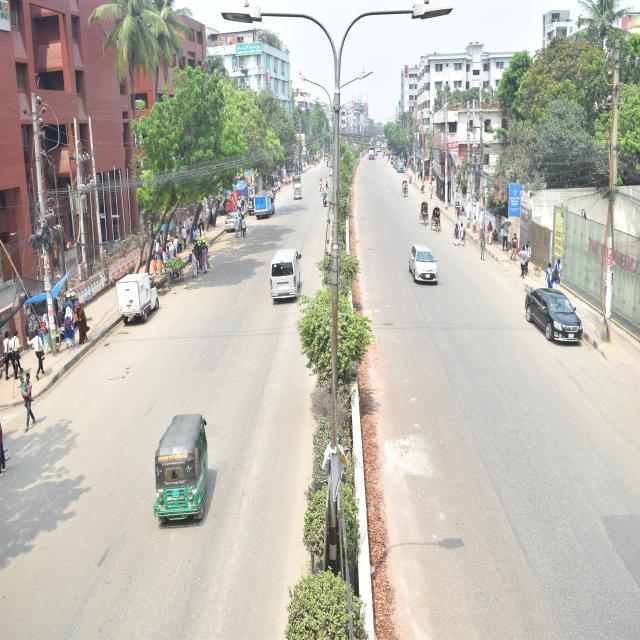car: (514, 270, 602, 395), (405, 236, 449, 288), (224, 211, 253, 241)
microbus: (261, 235, 323, 324)
motorbike: (318, 182, 335, 222)
pickup-van: (113, 259, 165, 330), (251, 192, 283, 219)
